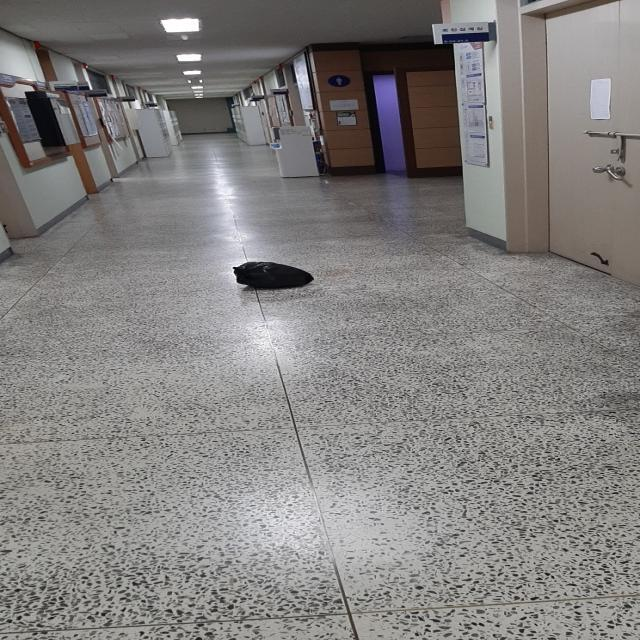white_bag: (233, 259, 315, 291)
